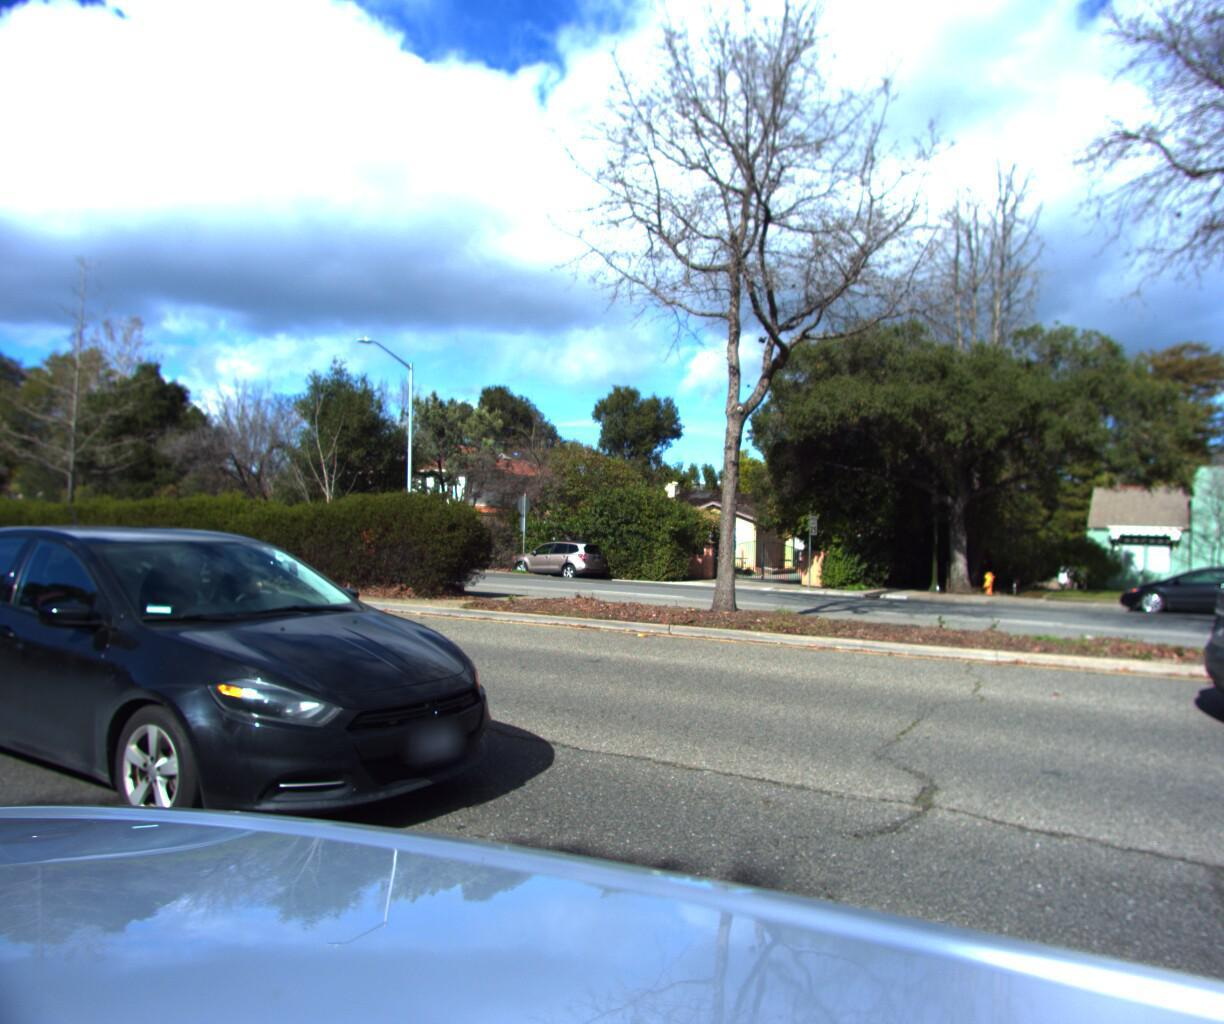car: (0, 508, 556, 888), (1156, 519, 1224, 872), (1111, 558, 1224, 625), (500, 539, 614, 582)
